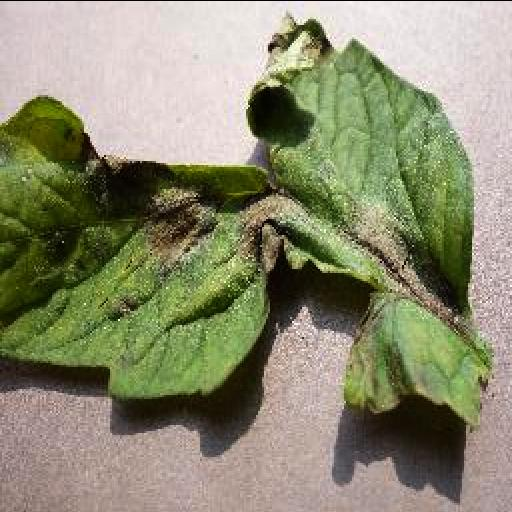disease_tomato: (0, 12, 496, 428)
